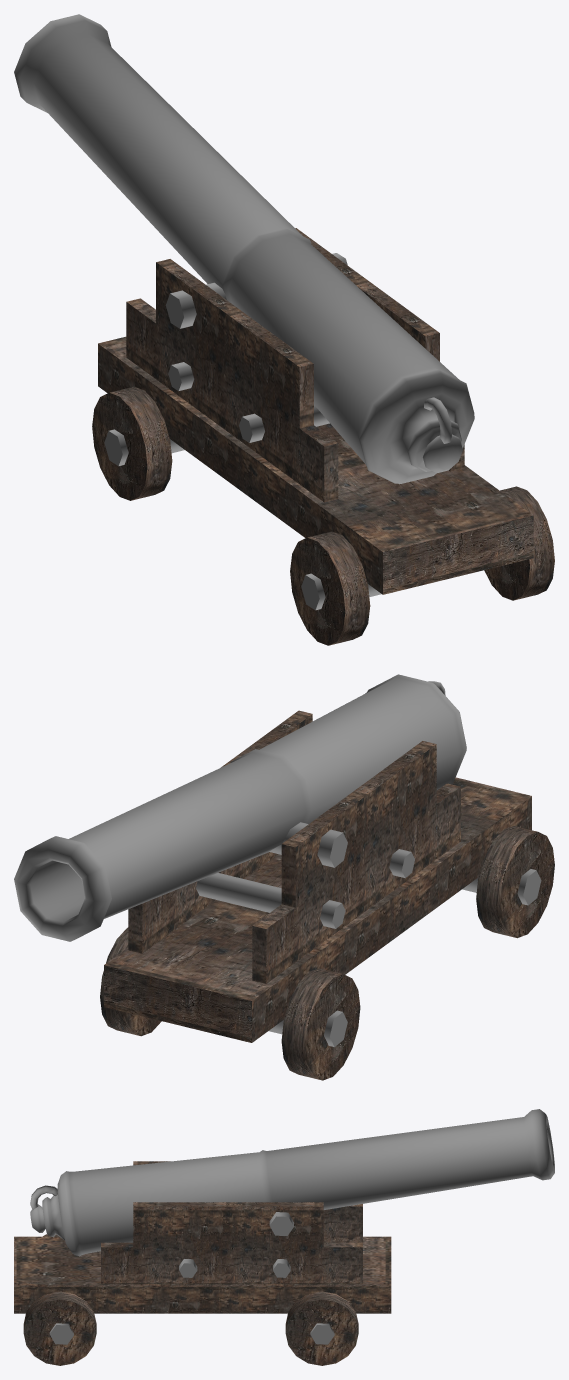
The model's file is canon.fbx.
3 renders of one model, top to bottom at view 1: azimuth 30°, elevation 25°; view 2: azimuth 150°, elevation 25°; view 3: azimuth 270°, elevation 25°, orthographic. The views are drawn at different scales.
Parts seen in each view (by area): view 1: kanone; view 2: kanone; view 3: kanone.
Part boxes in pixels (bbox=[...]): kanone: bbox=[14, 14, 554, 645]; kanone: bbox=[14, 674, 554, 1080]; kanone: bbox=[14, 1109, 554, 1365].
Bounding box in the file's own units: 124 × 179 × 399.
